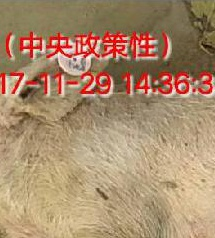text: (46, 32, 93, 84)
